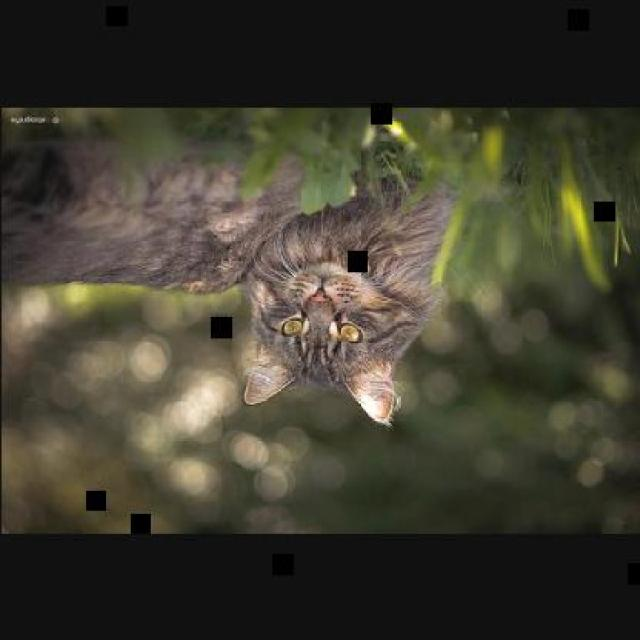unauthorized: (0, 132, 460, 428)
